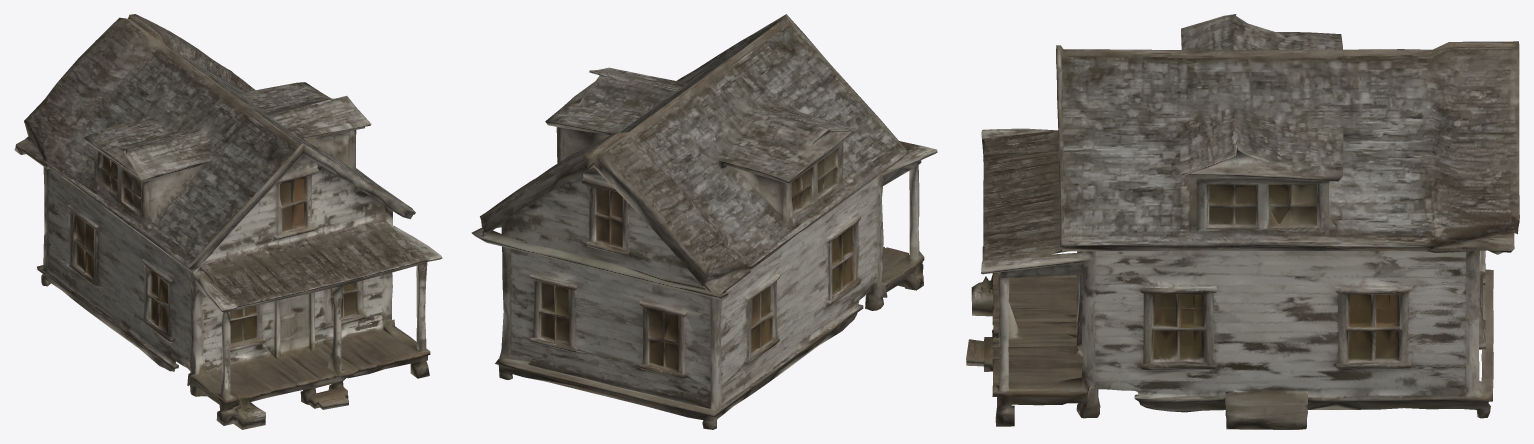
The model's file is farmhouse.glb.
3 views of the same model, side by side, from view 1: azimuth 30°, elevation 25°; view 2: azimuth 150°, elevation 25°; view 3: azimuth 270°, elevation 25° (orthographic). The views are drawn at different scales.
Visible parts, largest first — view 1: tripo_node_d9bf9ff7-6c32-409f-a638-f8618bf51071; view 2: tripo_node_d9bf9ff7-6c32-409f-a638-f8618bf51071; view 3: tripo_node_d9bf9ff7-6c32-409f-a638-f8618bf51071.
Part boxes in pixels (x1=…): tripo_node_d9bf9ff7-6c32-409f-a638-f8618bf51071: x1=14, y1=14, x2=442, y2=429; tripo_node_d9bf9ff7-6c32-409f-a638-f8618bf51071: x1=471, y1=14, x2=937, y2=429; tripo_node_d9bf9ff7-6c32-409f-a638-f8618bf51071: x1=966, y1=14, x2=1519, y2=429.
Size of the model in its own units: 0.629 by 0.6301 by 1.
1 material, 1 textured.
